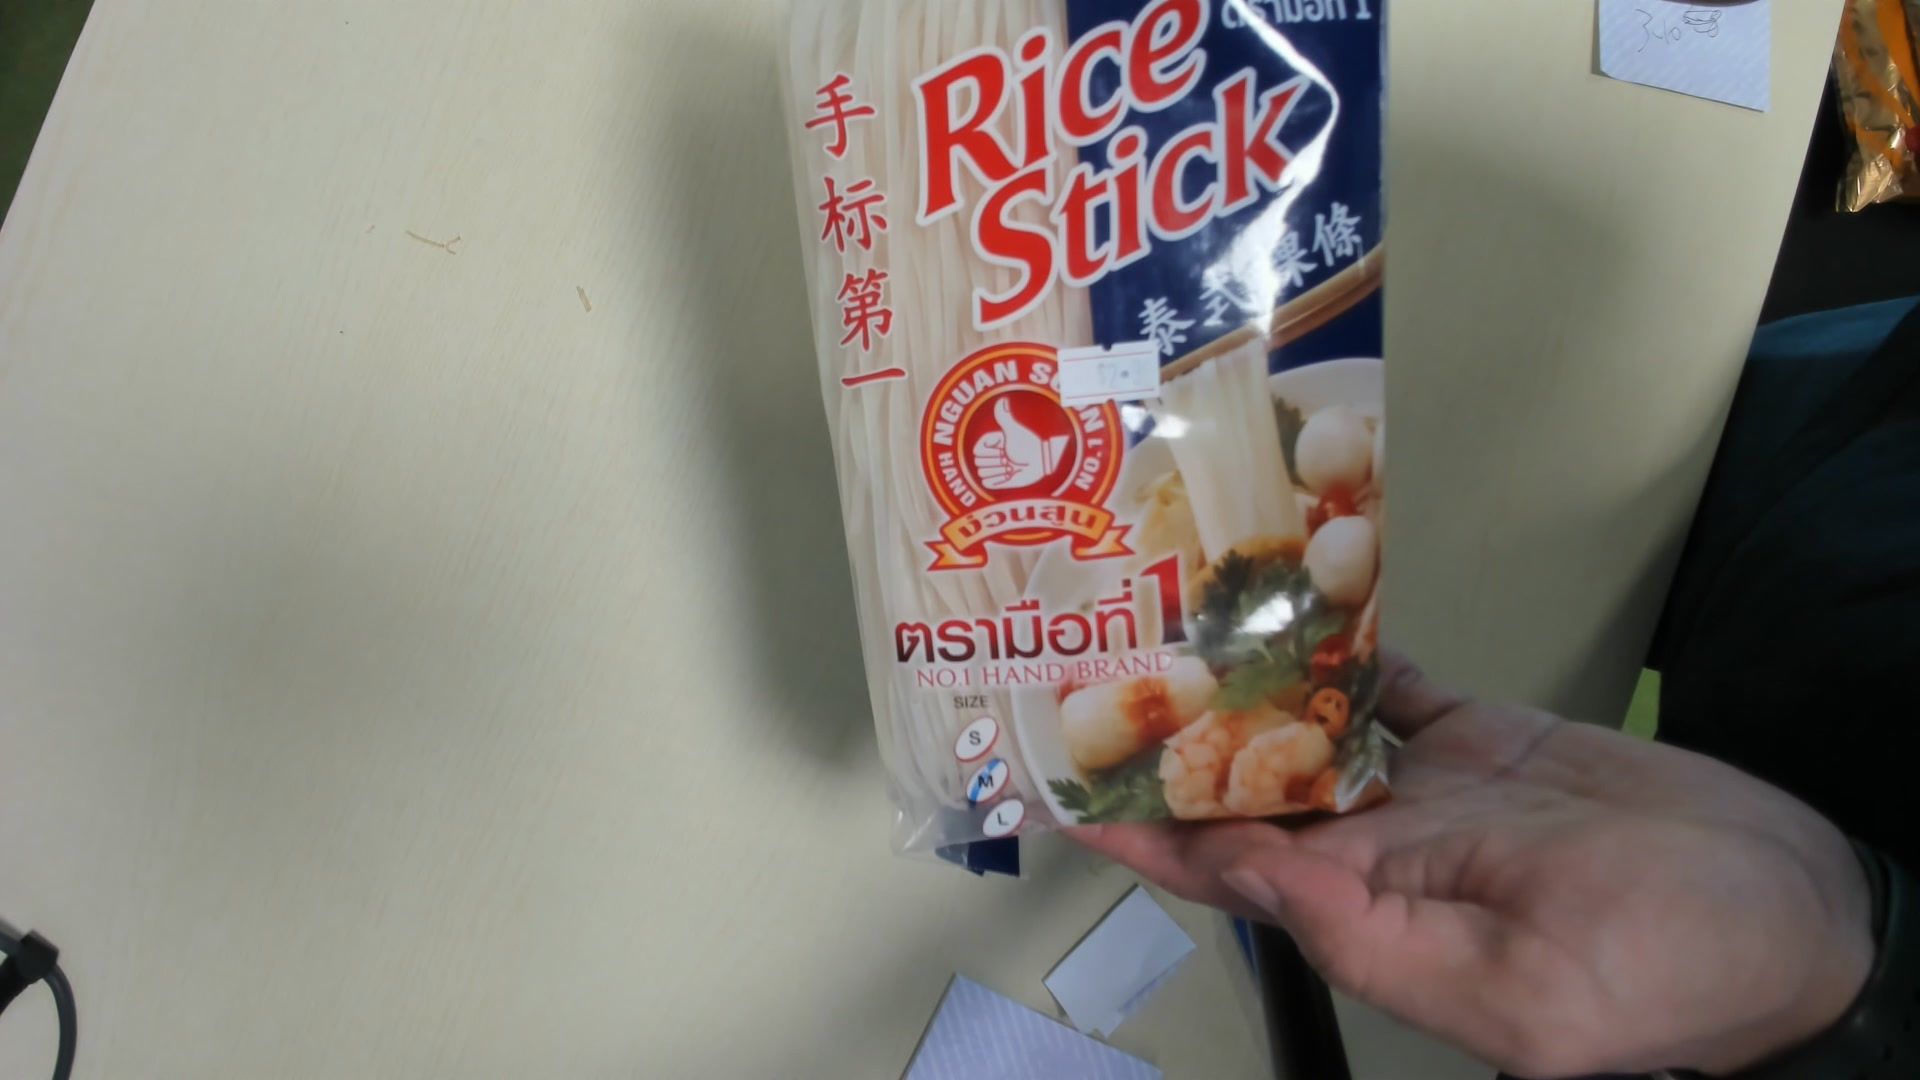OtherNoodles_400-499g_Halal_NonHealthy: (781, 1, 1395, 876)
